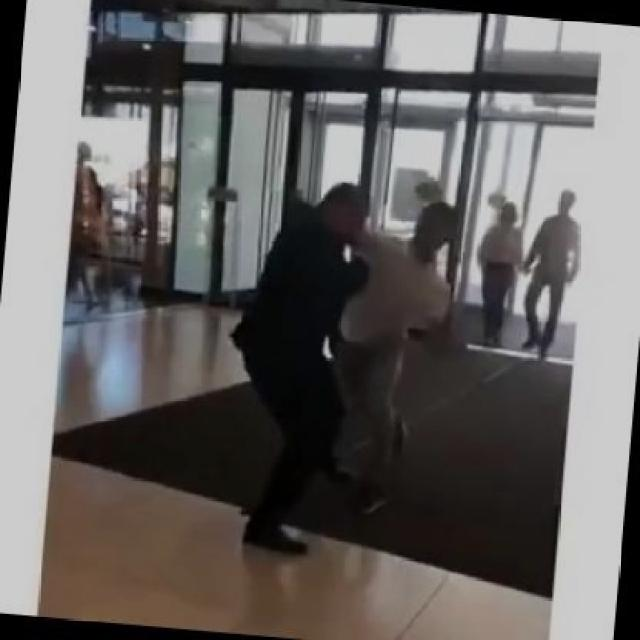fight: (232, 180, 454, 557)
non-fight: (522, 190, 580, 358), (475, 203, 521, 348)
